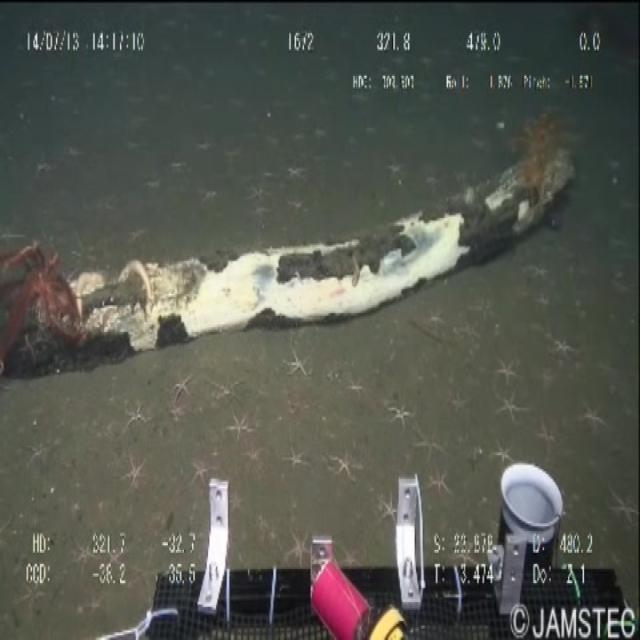Wood: (3, 100, 581, 393)
